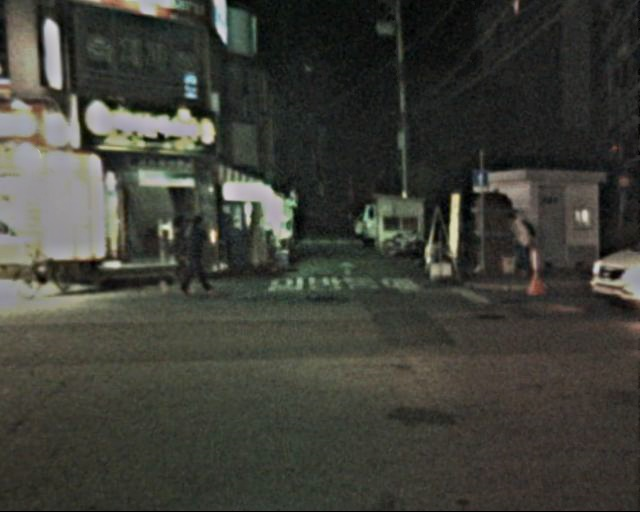person: (177, 213, 216, 296), (160, 213, 199, 296), (504, 208, 533, 282), (334, 205, 358, 238)
